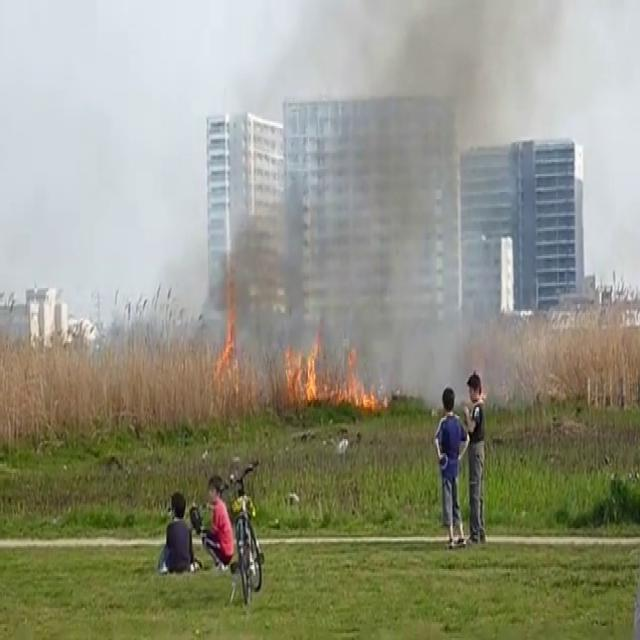Fire: (276, 336, 384, 409), (213, 293, 246, 391)
Smoke: (265, 0, 515, 400)
